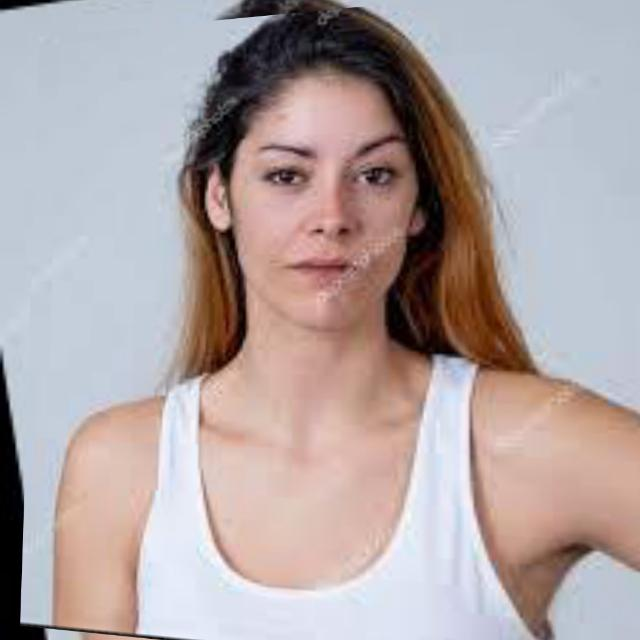Natural: (163, 71, 491, 354)
